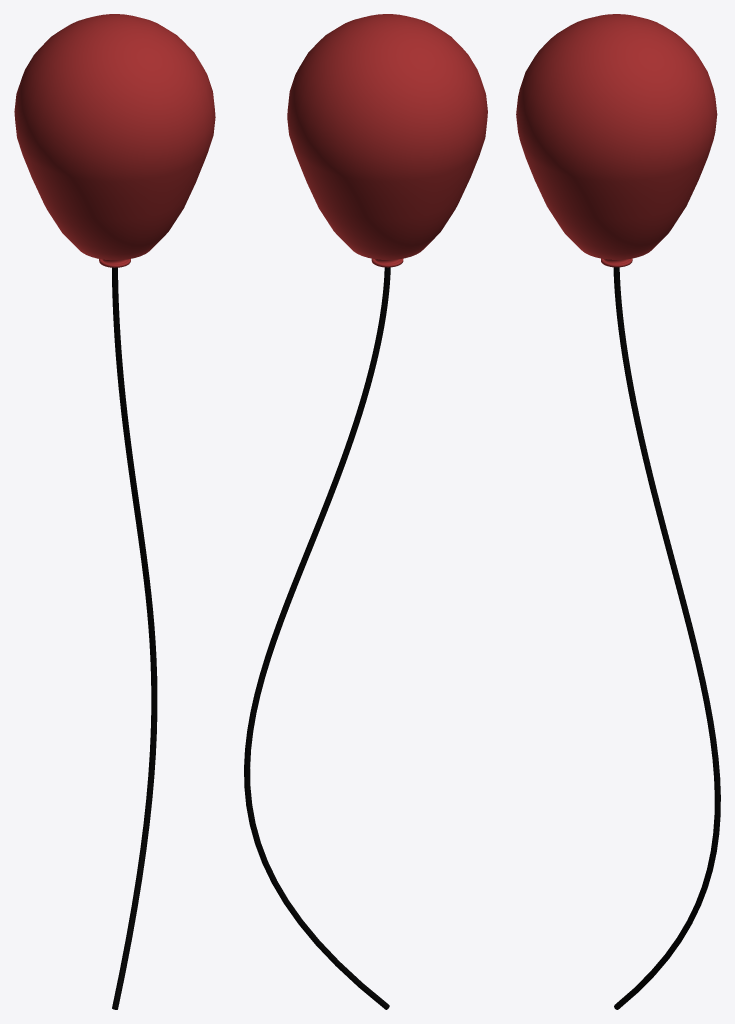
Rendered from balloon.glb.
The picture shows the model from 3 angles, left to right: view 1: azimuth 30°, elevation 25°; view 2: azimuth 150°, elevation 25°; view 3: azimuth 270°, elevation 25°; orthographic projection.
Parts seen in each view (by area): view 1: Sphere_0, NurbsPath_1; view 2: Sphere_0, NurbsPath_1; view 3: Sphere_0, NurbsPath_1.
Part boxes in pixels (box(x1,y1,x2,y2)): Sphere_0: box(14, 14, 215, 267); NurbsPath_1: box(112, 267, 157, 1009); Sphere_0: box(287, 14, 487, 267); NurbsPath_1: box(244, 267, 390, 1009); Sphere_0: box(516, 14, 717, 267); NurbsPath_1: box(613, 267, 720, 1009).
Bounding box in the file's own units: 2.06 × 10.81 × 2.04.
